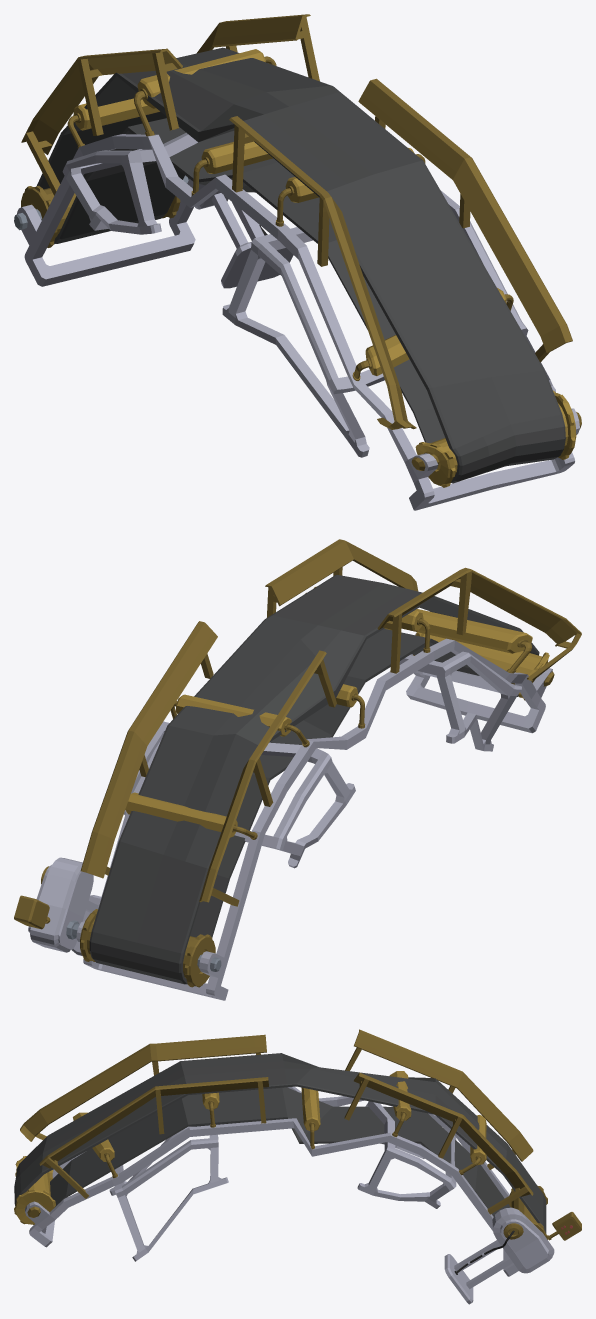
Rendered from Cube_007_factory-conveyer_004.fbx.
3 renders of one model, top to bottom at view 1: azimuth 30°, elevation 25°; view 2: azimuth 150°, elevation 25°; view 3: azimuth 270°, elevation 25°, orthographic. The views are drawn at different scales.
Visible parts, largest first — view 1: Cube.007.factory-conveyer.004; view 2: Cube.007.factory-conveyer.004; view 3: Cube.007.factory-conveyer.004.
Part boxes in pixels (bbox=[...]): Cube.007.factory-conveyer.004: bbox=[14, 14, 581, 510]; Cube.007.factory-conveyer.004: bbox=[14, 539, 581, 1000]; Cube.007.factory-conveyer.004: bbox=[14, 1029, 581, 1304].
Size of the model in its own units: 1.84 by 2.29 by 5.54.
